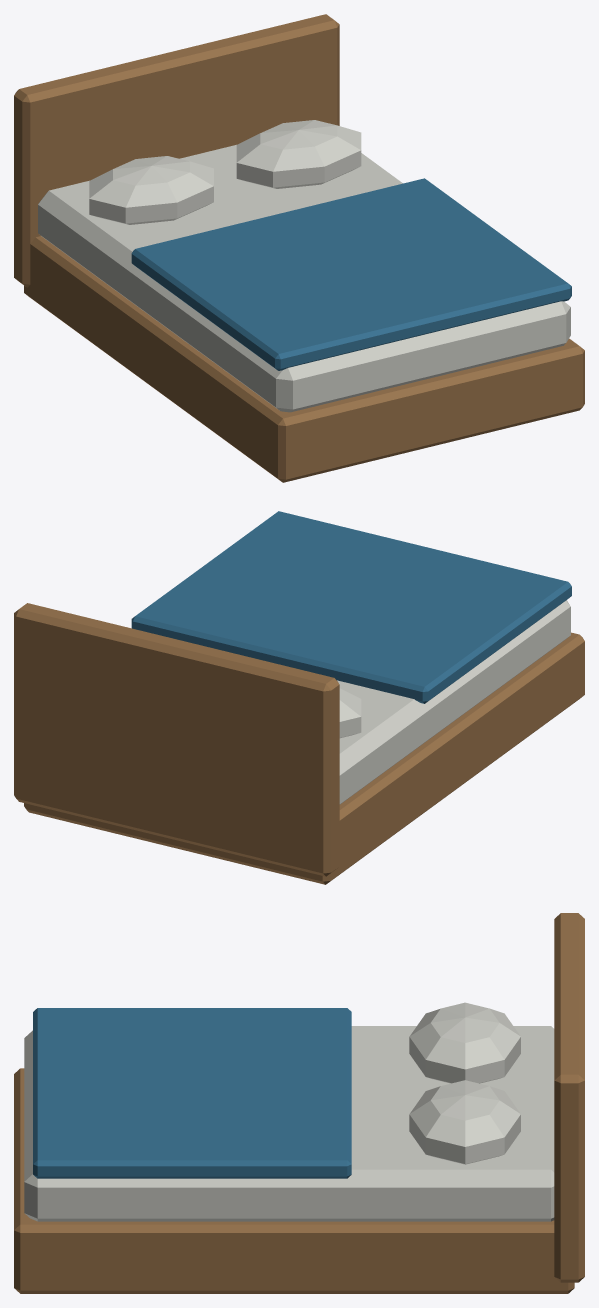
File: props-bed.lod0.glb
3 views of the same model, one above another, from view 1: azimuth 30°, elevation 25°; view 2: azimuth 150°, elevation 25°; view 3: azimuth 270°, elevation 25° (orthographic). The views are drawn at different scales.
Visible parts, largest first — view 1: props-bed__body; view 2: props-bed__body; view 3: props-bed__body.
Part boxes in pixels (x1=…): props-bed__body: x1=14, y1=14, x2=584, y2=482; props-bed__body: x1=14, y1=511, x2=584, y2=884; props-bed__body: x1=14, y1=913, x2=584, y2=1293.
Size of the model in its own units: 1.55 by 0.96 by 2.24.
